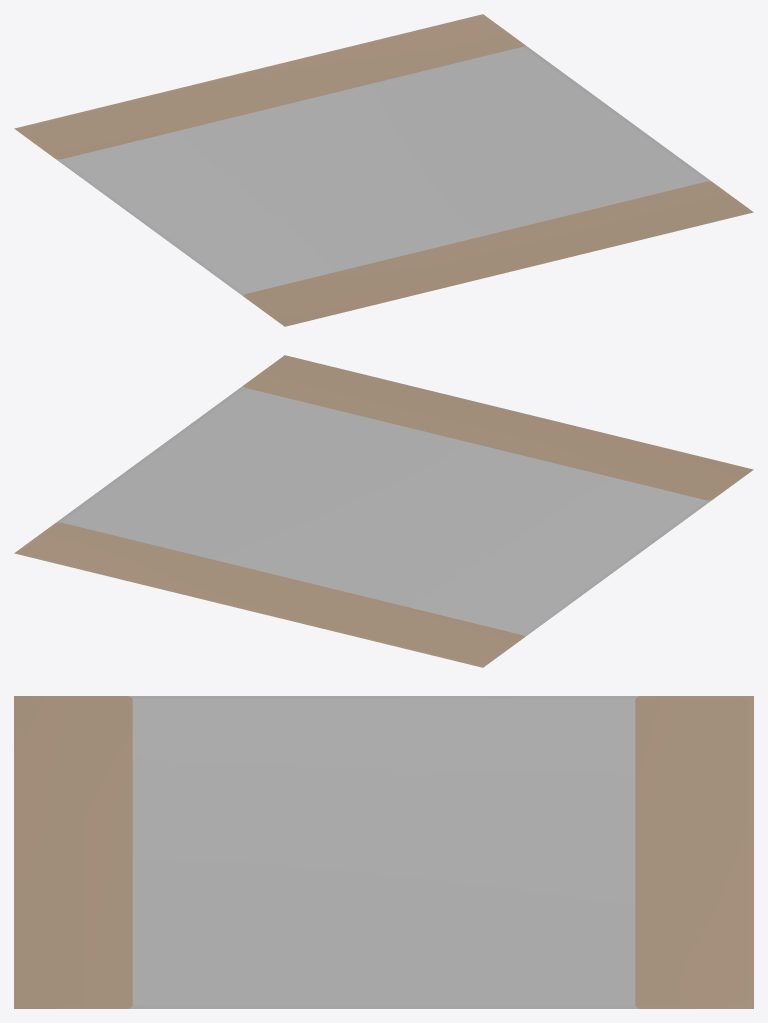
The model's file is Museum_FloorTile_Bordered.fbx.
3 renders of one model, top to bottom at view 1: azimuth 30°, elevation 25°; view 2: azimuth 150°, elevation 25°; view 3: azimuth 270°, elevation 25°, orthographic. The views are drawn at different scales.
Parts seen in each view (by area): view 1: Cube; view 2: Cube; view 3: Cube.
Part boxes in pixels (left/top/right/bottom): Cube: left=14, top=14, right=753, bottom=326; Cube: left=14, top=355, right=753, bottom=667; Cube: left=14, top=696, right=753, bottom=1008.
Bounding box in the file's own units: 2 × 3.26e-07 × 2.
